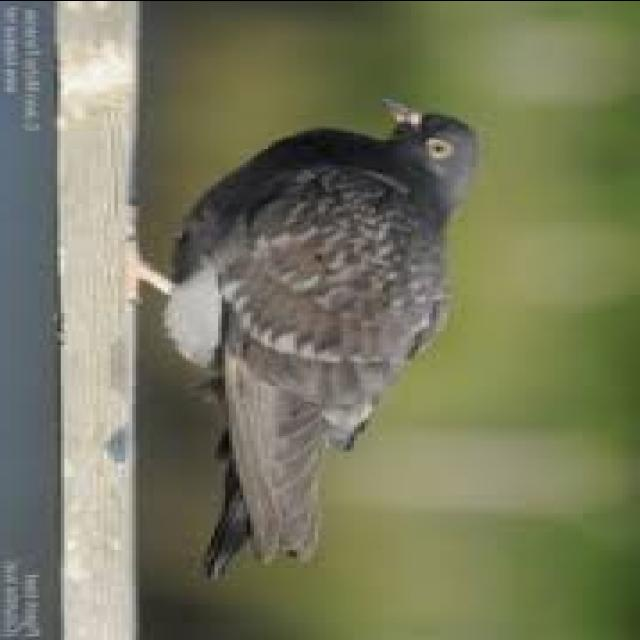pigeon: (92, 96, 502, 590)
